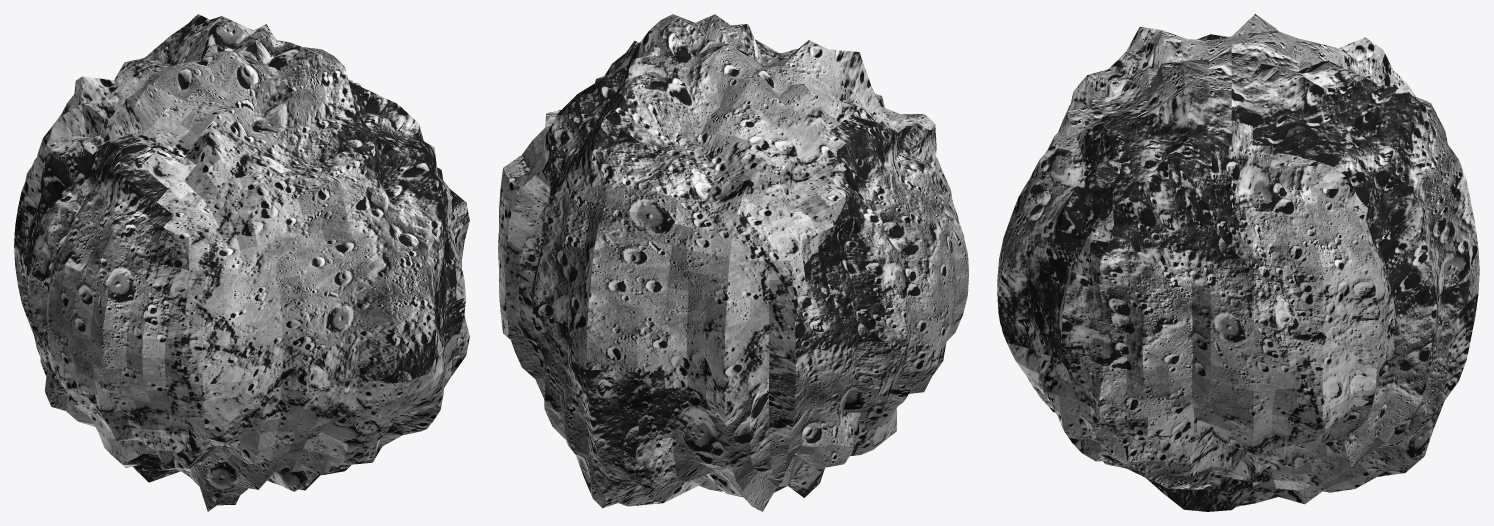
The model's file is asteroid86.obj.
The picture shows the model from 3 angles, left to right: view 1: azimuth 30°, elevation 25°; view 2: azimuth 150°, elevation 25°; view 3: azimuth 270°, elevation 25°; orthographic projection. The views are drawn at different scales.
Visible parts, largest first — view 1: Cube_Cube.002; view 2: Cube_Cube.002; view 3: Cube_Cube.002.
Part boxes in pixels (bbox=[...]): Cube_Cube.002: bbox=[14, 14, 469, 511]; Cube_Cube.002: bbox=[498, 14, 968, 511]; Cube_Cube.002: bbox=[997, 14, 1479, 511].
Size of the model in its own units: 1.73 by 1.85 by 1.85.
